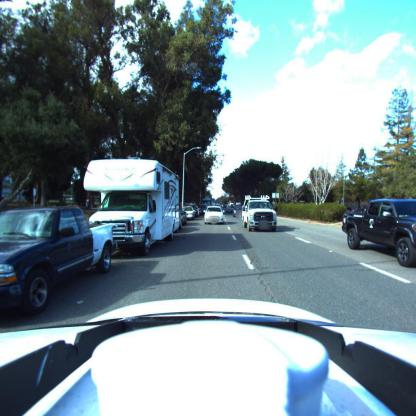car: (0, 206, 119, 315), (242, 198, 278, 231), (205, 206, 227, 225), (184, 206, 198, 221), (224, 204, 235, 214)
truck: (84, 157, 182, 259), (342, 198, 416, 270)
